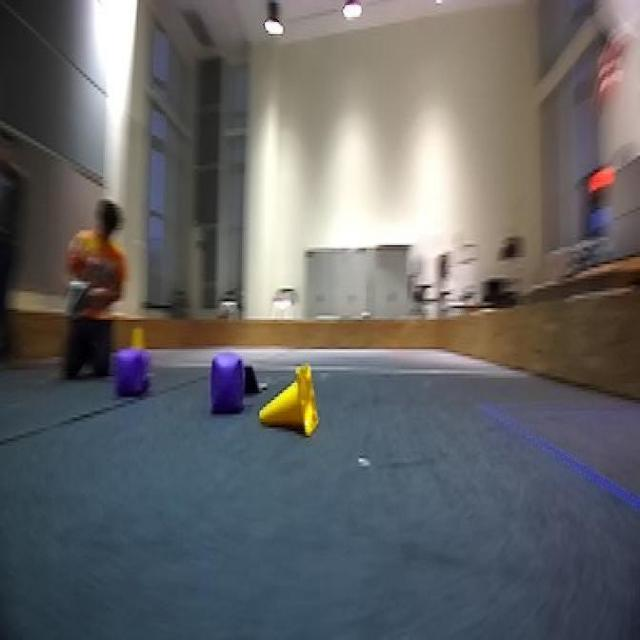frc_cone: (258, 361, 320, 437)
frc_cube: (210, 351, 246, 422), (112, 346, 154, 405)
